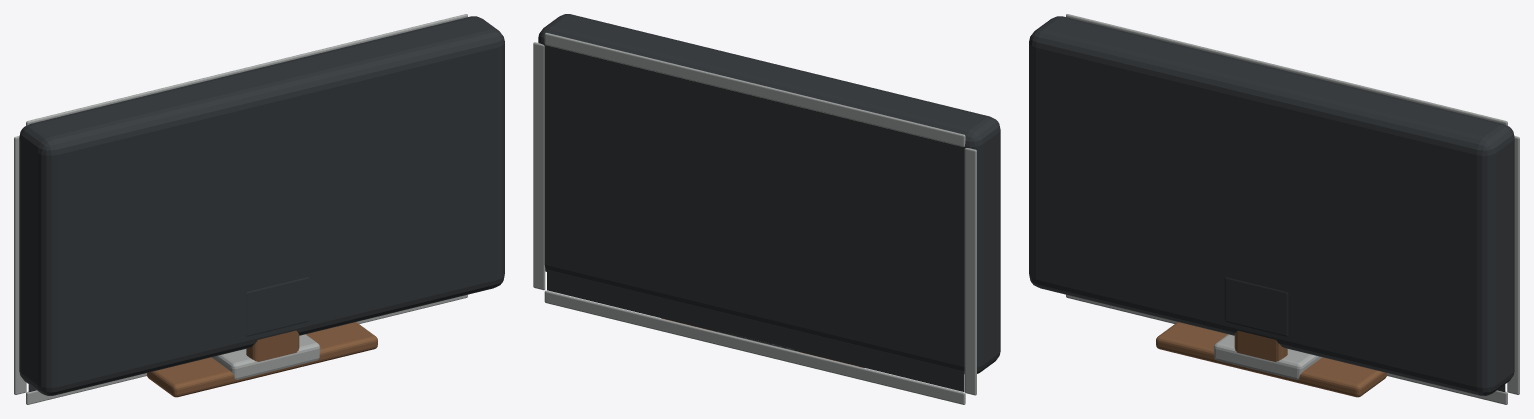
The model's file is monitor_with_stand.glb.
3 renders of one model, left to right at view 1: azimuth 30°, elevation 25°; view 2: azimuth 150°, elevation 25°; view 3: azimuth 330°, elevation 25°, orthographic. The views are drawn at different scales.
Visible parts, largest first — view 1: SM_Monitor_BackShell, SM_Monitor_BaseFoot, SM_Monitor_StandSocket, SM_Monitor_StandCollar, SM_Monitor_BezelTop, SM_Monitor_BezelLeft, SM_Monitor_StandNeck, SM_Monitor_BezelBottom; view 2: SM_Monitor_BackShell, SM_Monitor_ScreenGlass, SM_Monitor_BezelBottom, SM_Monitor_BezelTop, SM_Monitor_BezelLeft, SM_Monitor_BezelRight; view 3: SM_Monitor_BackShell, SM_Monitor_BaseFoot, SM_Monitor_StandSocket, SM_Monitor_StandCollar, SM_Monitor_BezelTop, SM_Monitor_BezelRight, SM_Monitor_StandNeck, SM_Monitor_BezelBottom.
Boxes of the visible parts, bbox=[...] form: SM_Monitor_BackShell: bbox=[19, 16, 504, 395]; SM_Monitor_BaseFoot: bbox=[147, 322, 377, 397]; SM_Monitor_StandSocket: bbox=[245, 277, 309, 336]; SM_Monitor_StandCollar: bbox=[212, 334, 320, 379]; SM_Monitor_BezelTop: bbox=[26, 14, 467, 125]; SM_Monitor_BezelLeft: bbox=[14, 136, 26, 394]; SM_Monitor_StandNeck: bbox=[246, 330, 299, 361]; SM_Monitor_BezelBottom: bbox=[26, 294, 467, 404]; SM_Monitor_BackShell: bbox=[538, 14, 1000, 373]; SM_Monitor_ScreenGlass: bbox=[547, 270, 964, 391]; SM_Monitor_BezelBottom: bbox=[544, 290, 965, 404]; SM_Monitor_BezelTop: bbox=[544, 32, 965, 146]; SM_Monitor_BezelLeft: bbox=[964, 148, 976, 395]; SM_Monitor_BezelRight: bbox=[533, 42, 545, 290]; SM_Monitor_BackShell: bbox=[1029, 16, 1514, 395]; SM_Monitor_BaseFoot: bbox=[1156, 322, 1386, 397]; SM_Monitor_StandSocket: bbox=[1224, 277, 1288, 336]; SM_Monitor_StandCollar: bbox=[1213, 334, 1321, 379]; SM_Monitor_BezelTop: bbox=[1066, 14, 1507, 125]; SM_Monitor_BezelRight: bbox=[1507, 136, 1519, 394]; SM_Monitor_StandNeck: bbox=[1234, 330, 1287, 361]; SM_Monitor_BezelBottom: bbox=[1066, 294, 1507, 404].
Size of the model in its own units: 0.68 by 0.4 by 0.0795.
